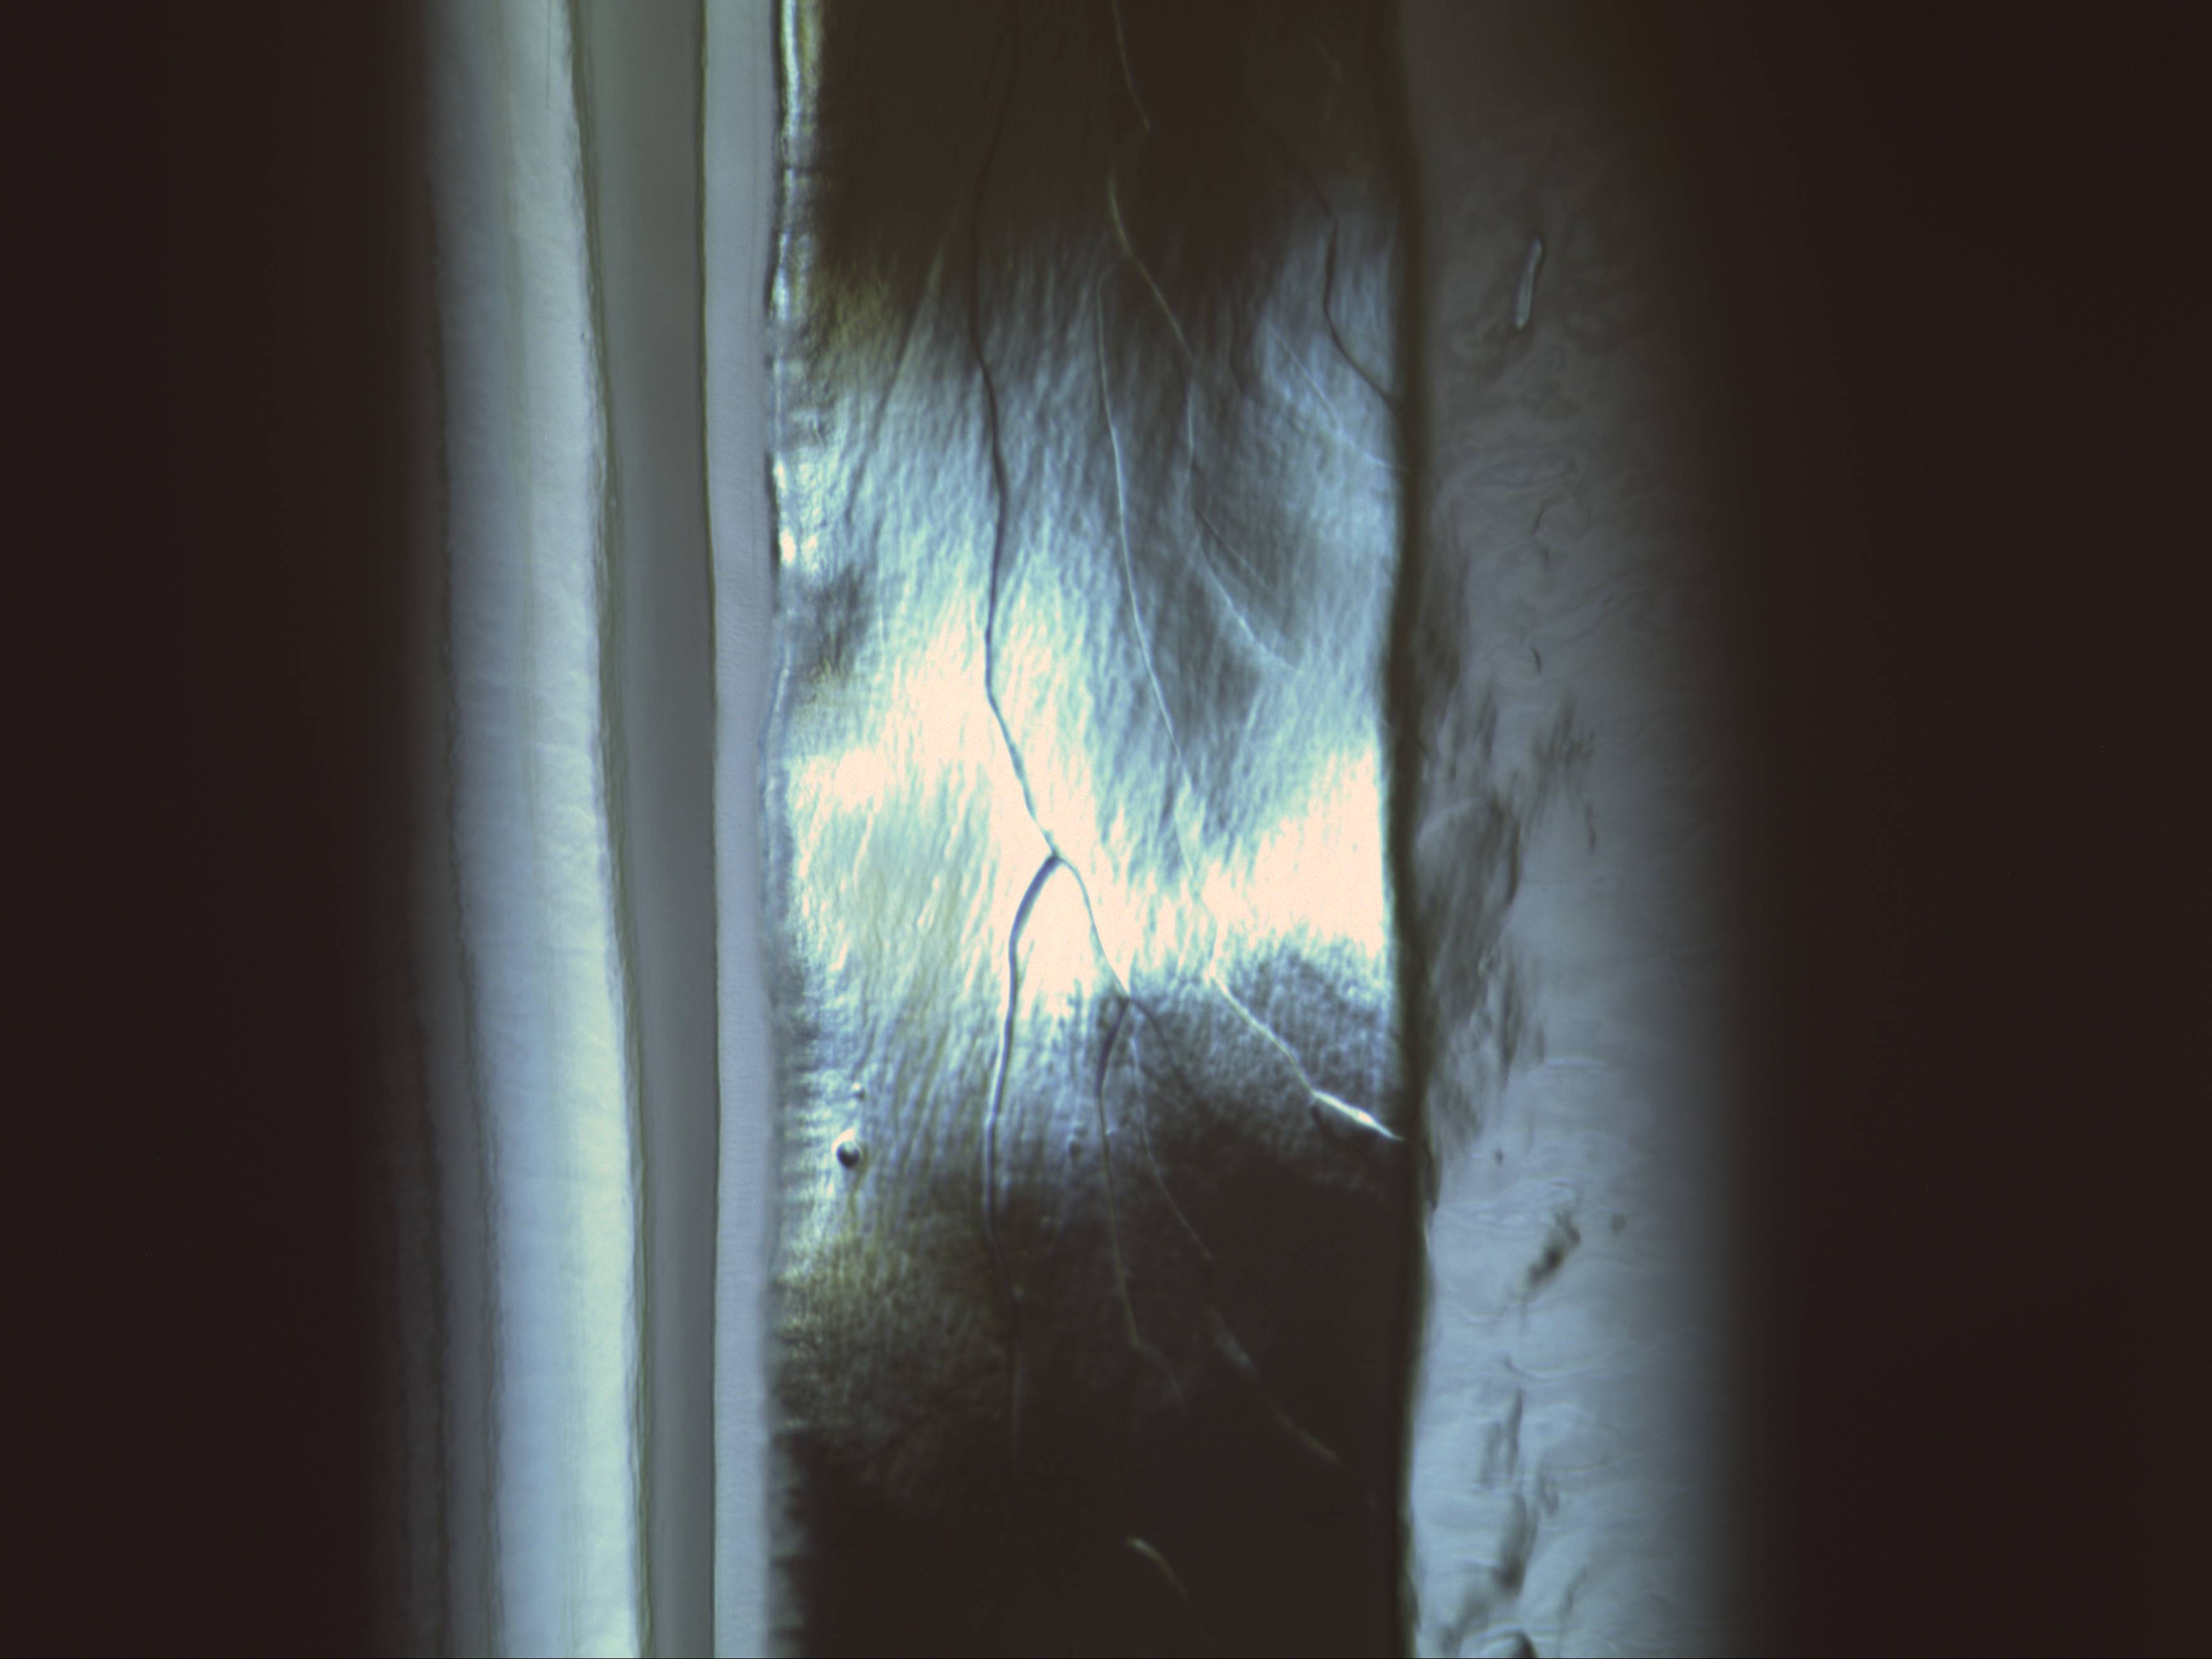defect: (833, 1140, 866, 1169)
